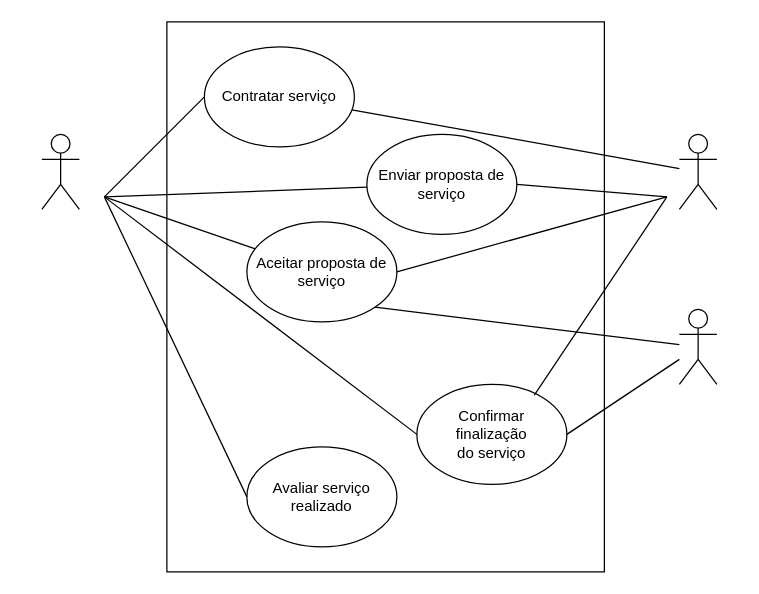
This 759x594 diagram has some shape labels left out. Here are the shapes that lost their labels. From the top down, the centre of each, then its label:
At pixel 60 171: "Contratante".
At pixel 697 171: "Profissional".
At pixel 697 346: "Instituição financeira".
